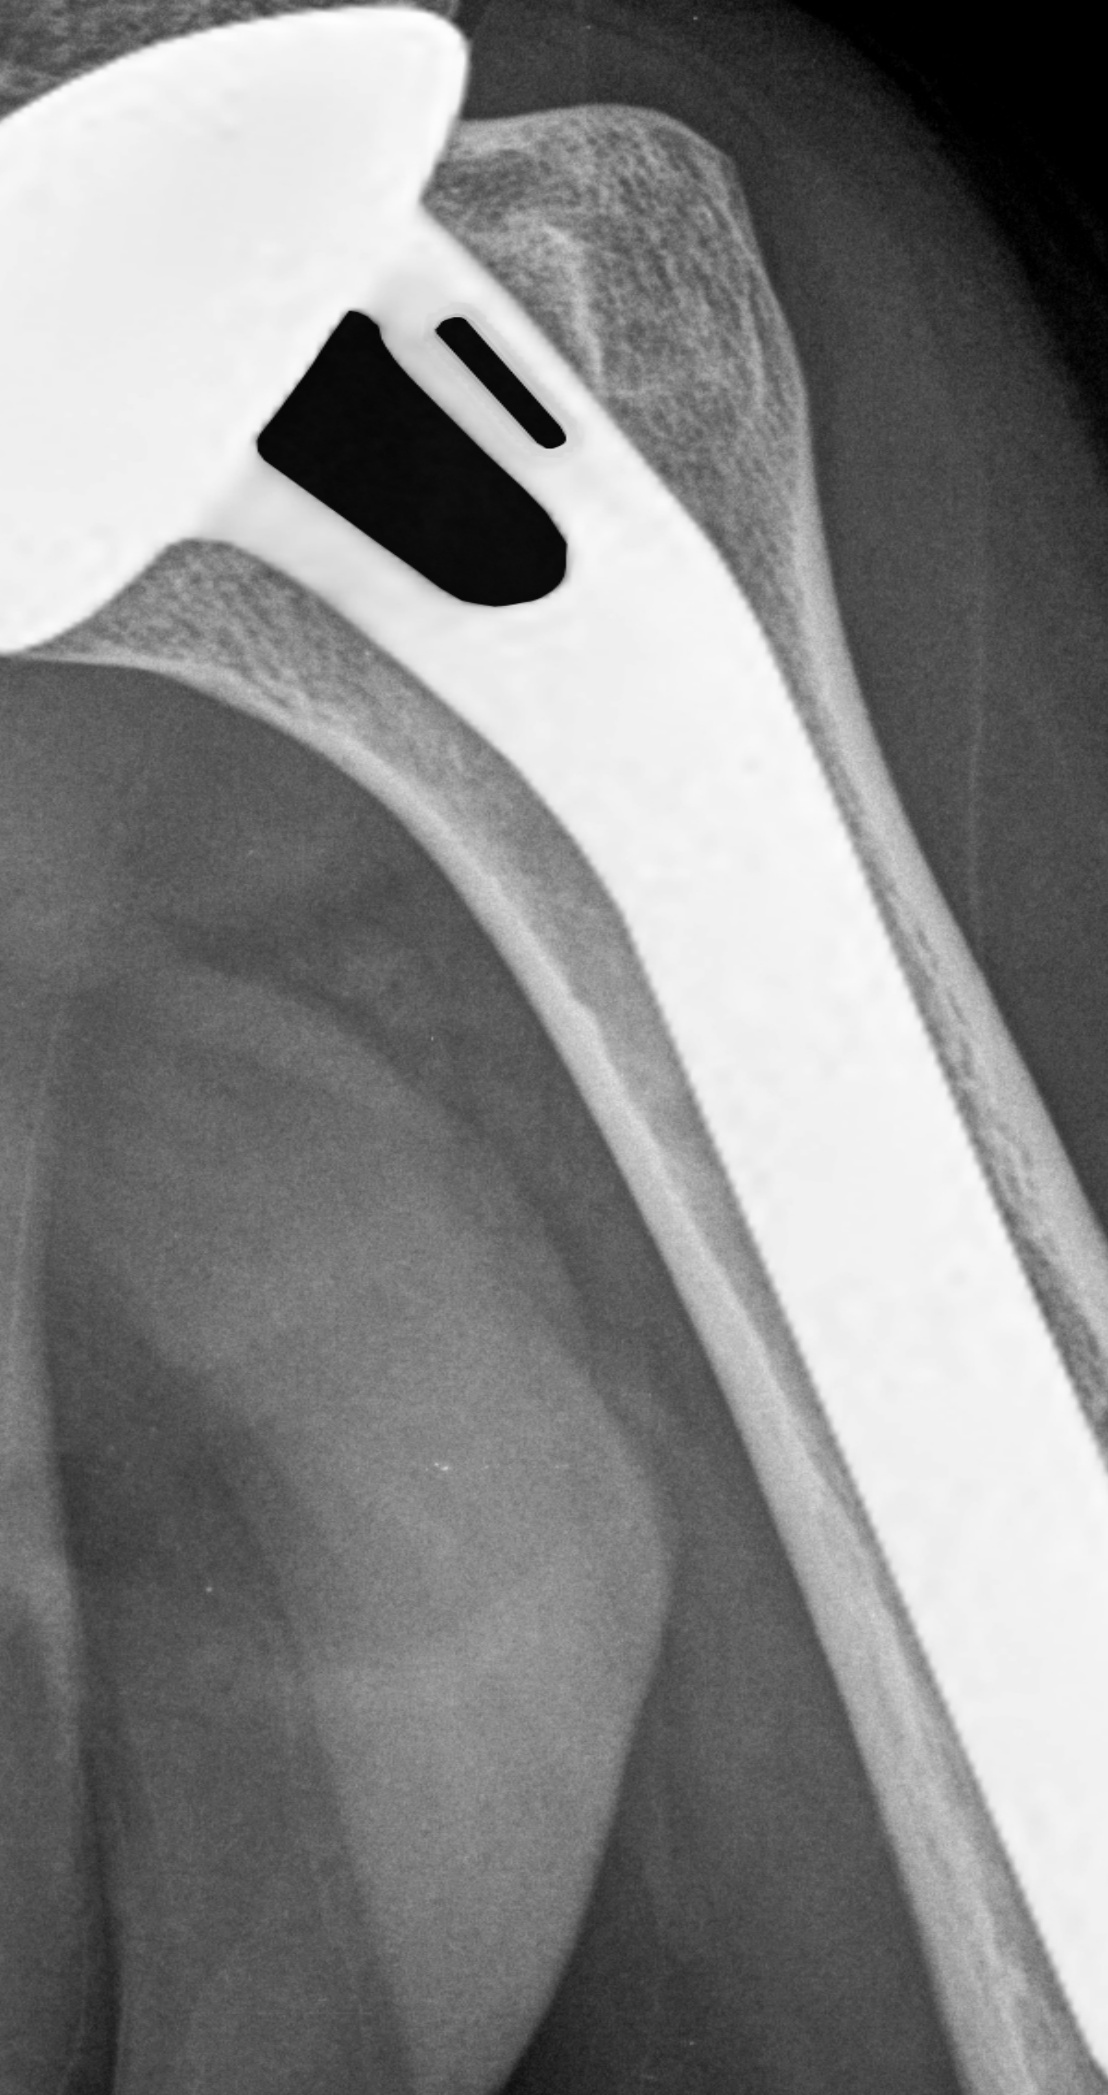Shoulder - AequalisFracture - Tornier: (8, 6, 643, 707)
